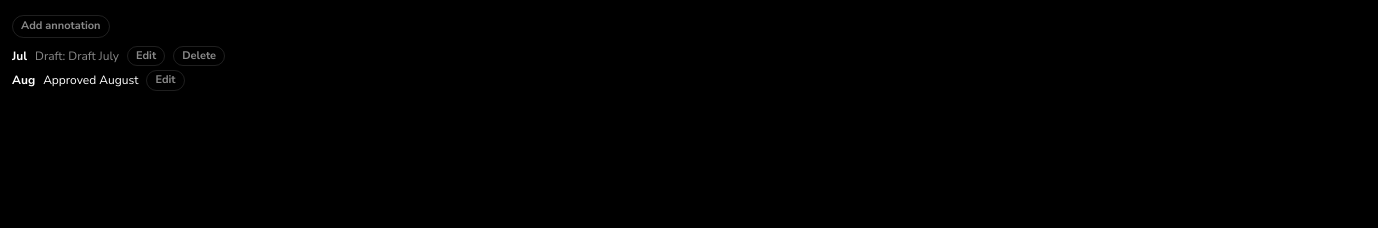
it: choosing a month that already has a note says what saving will do
Click the button "Add annotation": coordinates (61, 26) [12, 15, 110, 38]
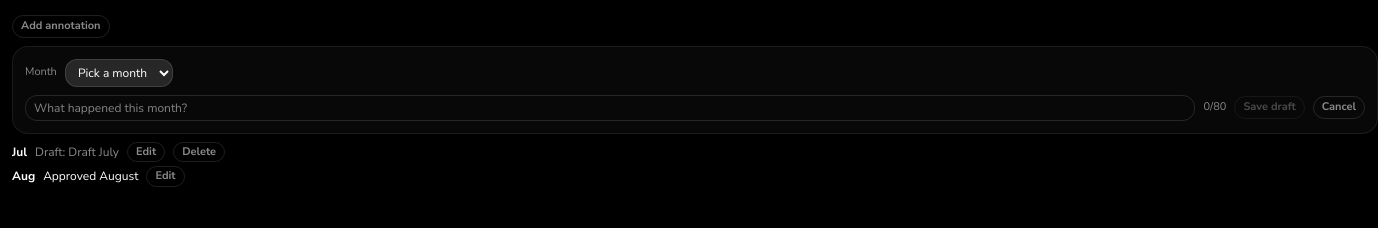
Select "Jul" in the dropdown labelled "Month": coordinates (119, 72) [65, 58, 173, 86]
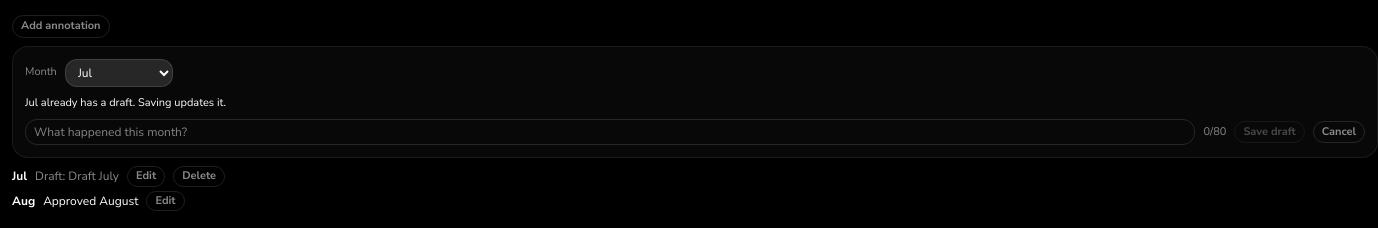
Expected: the text "Jul already has a draft. Saving updates it." is shown, [25, 94, 226, 110]
Select "Aug" in the dropdown labelled "Month": coordinates (119, 72) [65, 58, 173, 86]
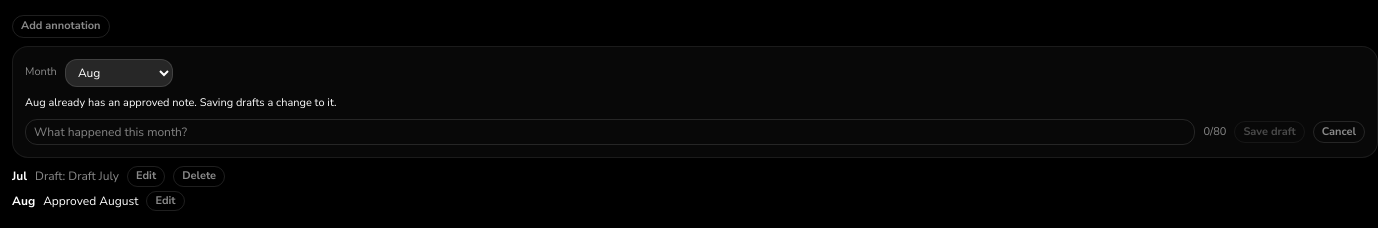
Expected: the text "Aug already has an approved note. Saving drafts a change to it." is shown, [25, 94, 336, 110]
